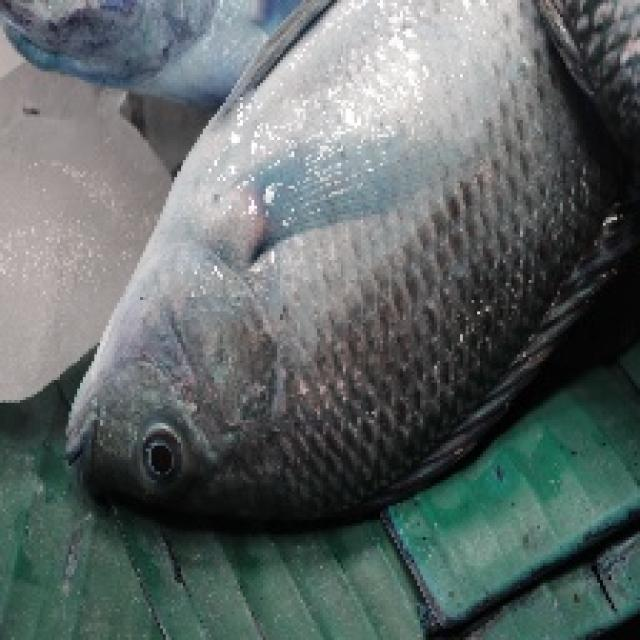Fresh: (187, 104, 511, 488)
